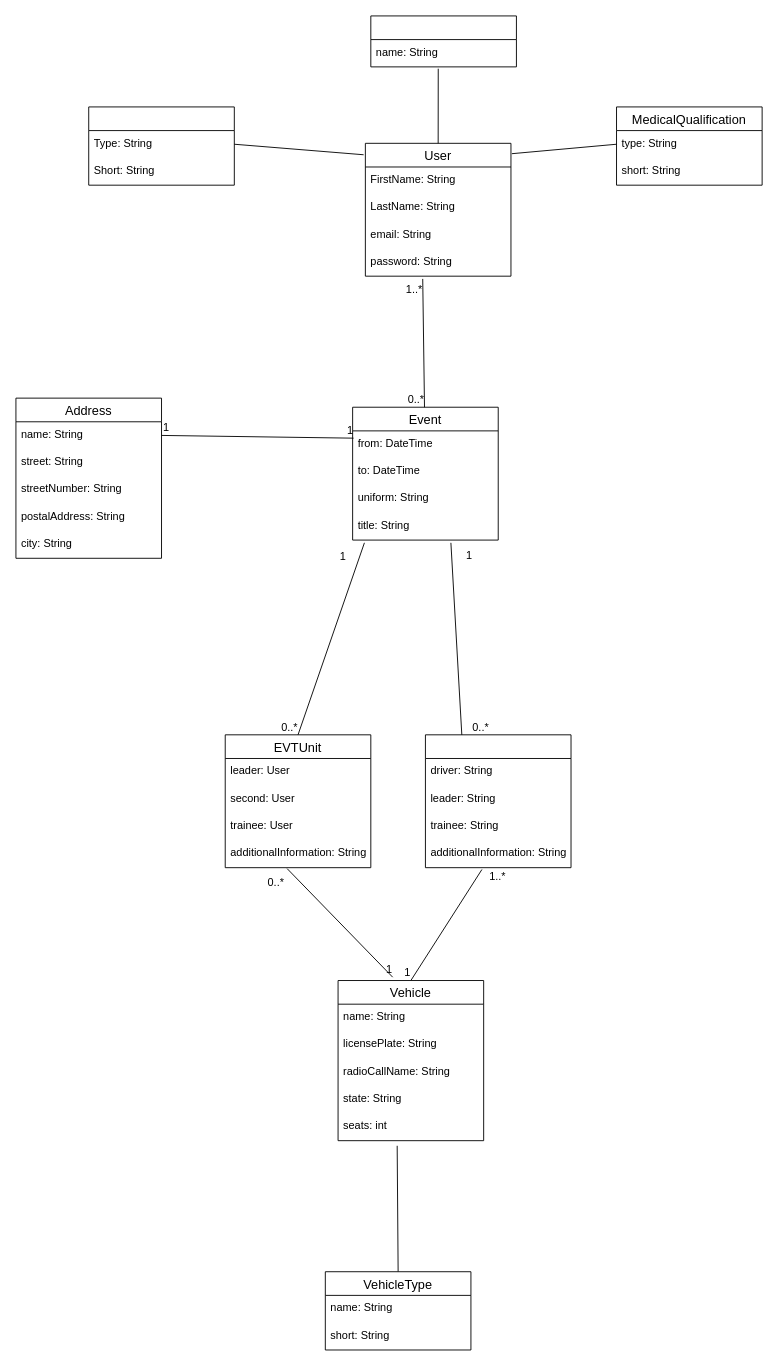
Some shapes in this 778 by 1369 pixel diagram are drawn without their labels. Here are the shapes that lost their labels. From the top down, the box of each, then its label:
(370, 15, 516, 67): Role
(88, 106, 234, 185): ExecutiveQualification
(425, 734, 571, 868): KTWUnit
